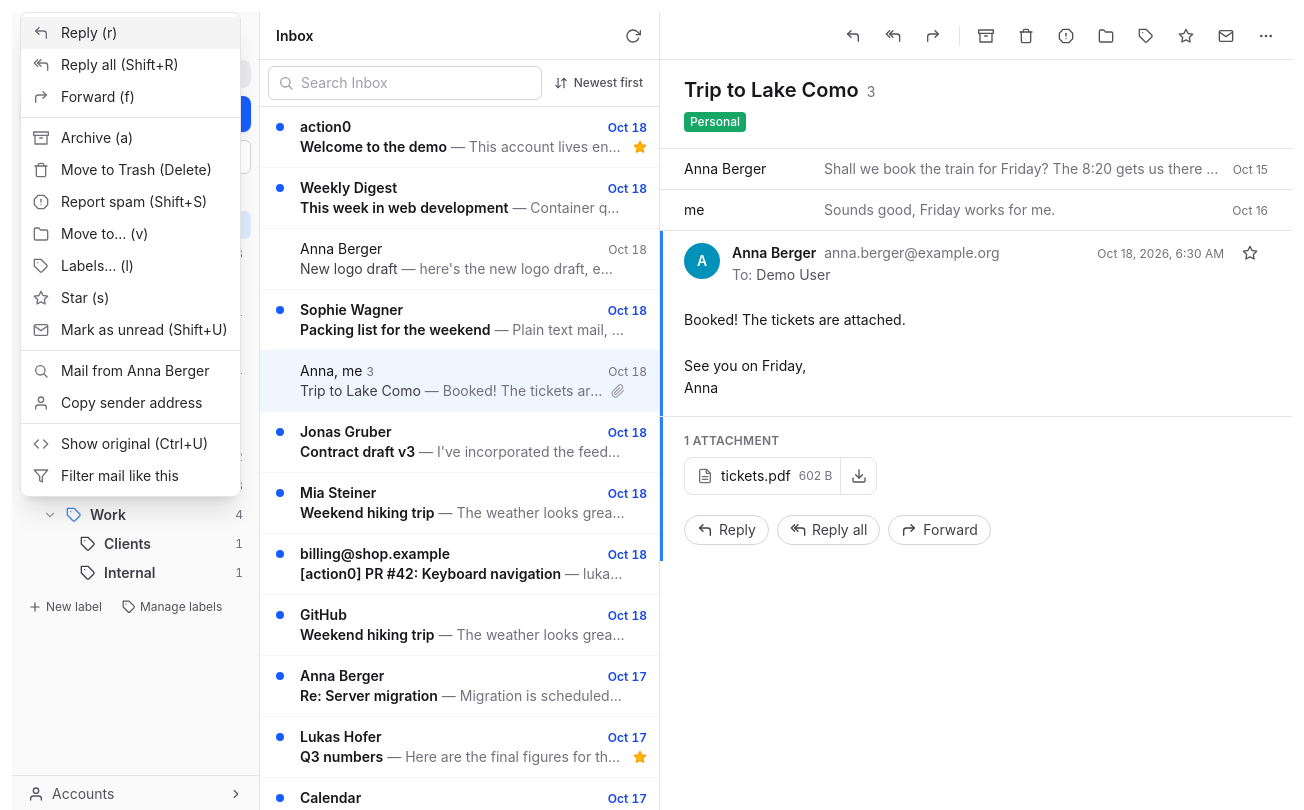
Test case: the menu of a message in the reader › acts on that message only, also inside a conversation
Step 1. Click the menu item "Star (s)" → (130, 298), box [21,282,240,314]
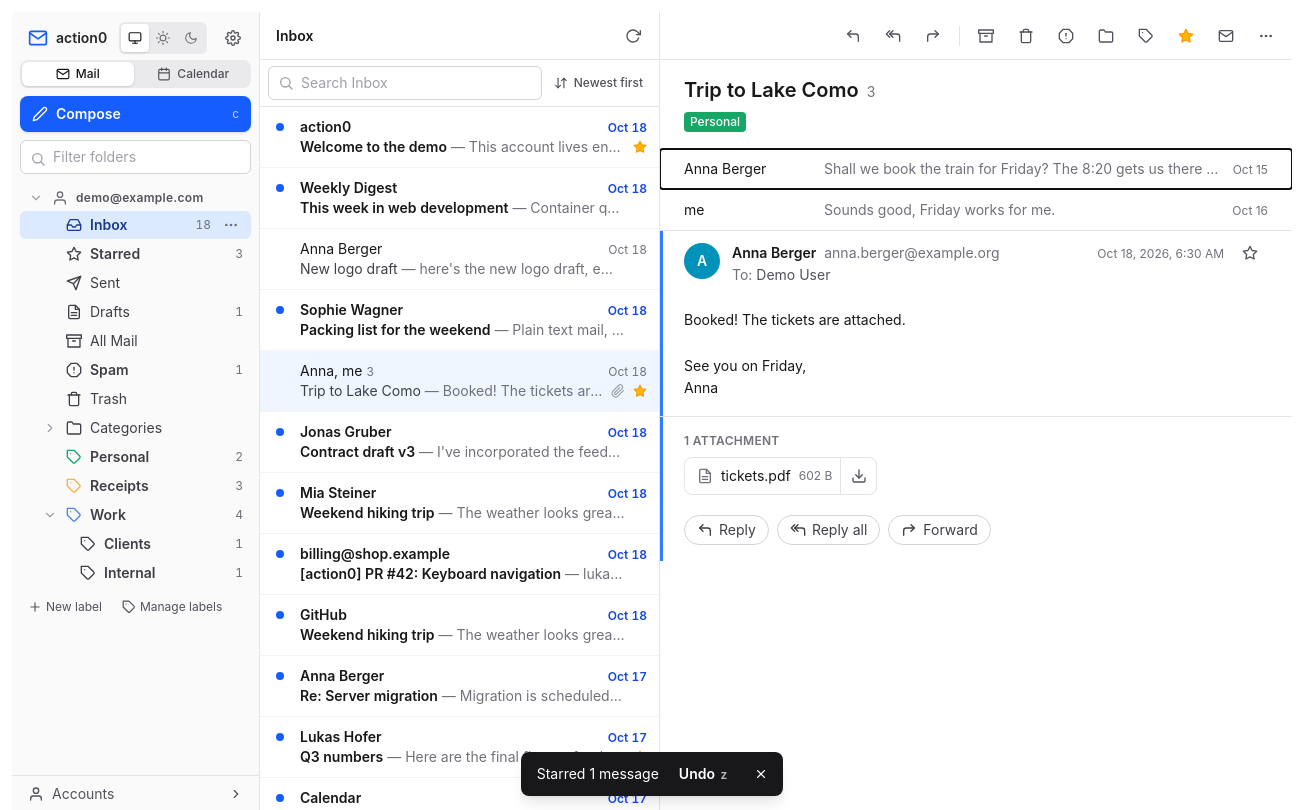
Now the text "Starred 1 message" is shown, box [537,764,659,784]
